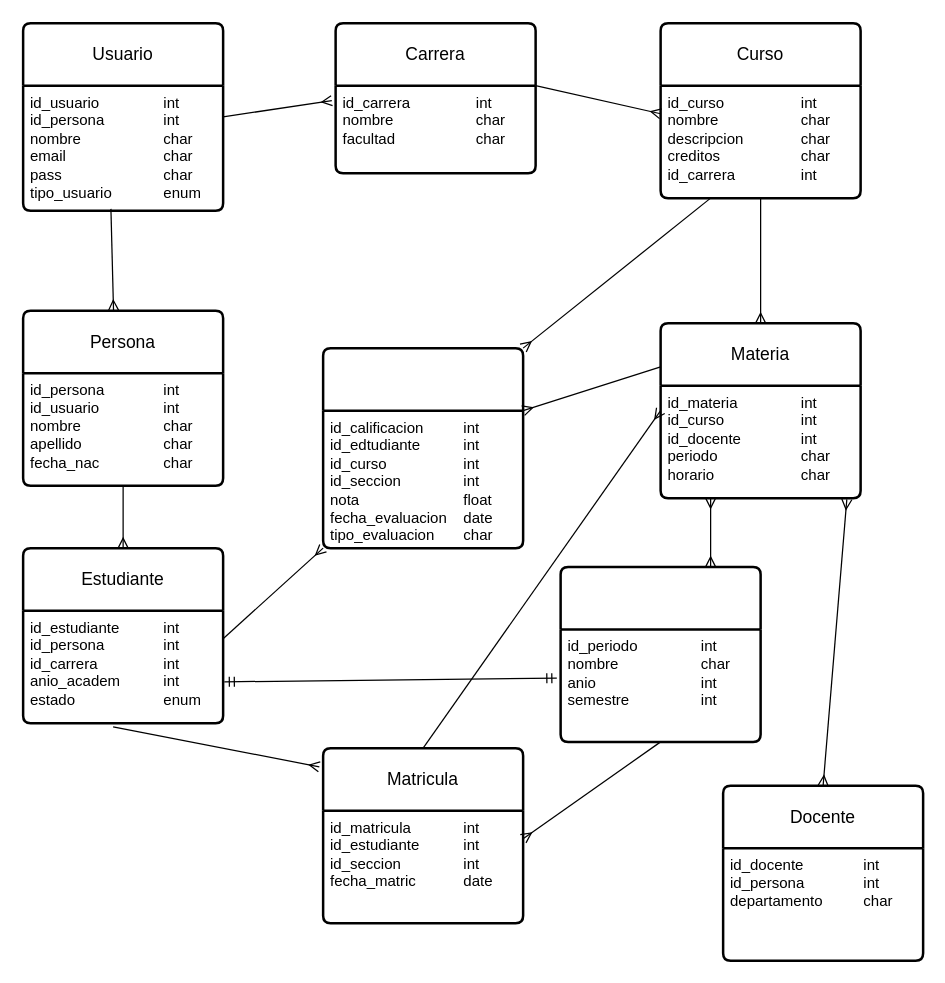
This 945x983 diagram has some shape labels left out. Here are the shapes that lost their labels. From the top down, the box of each, then its label:
(321, 346, 524, 549): Calificaciones
(559, 565, 761, 742): PeriodoAcademico
